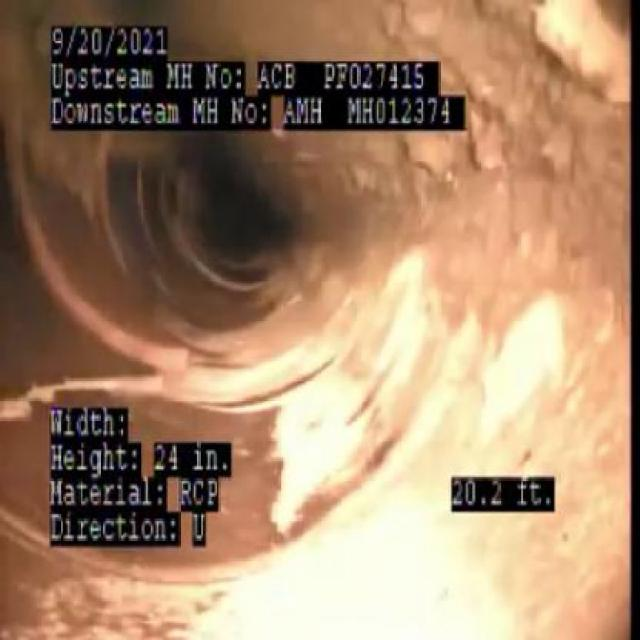Buckling: (72, 285, 274, 406)
